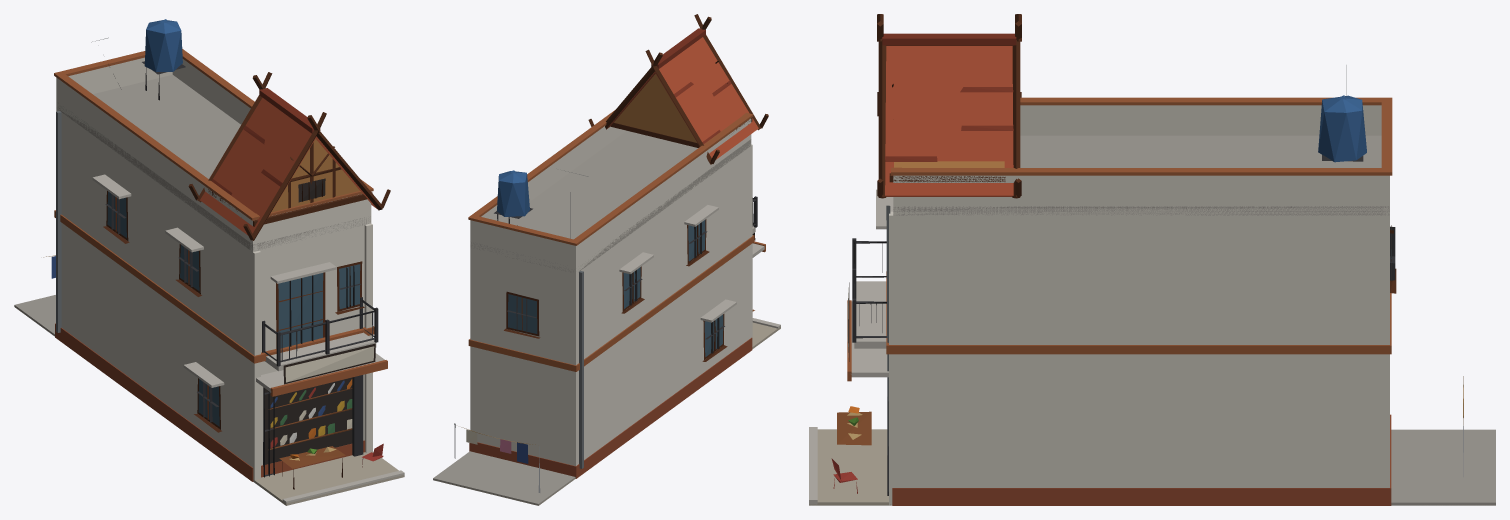
The model's file is bay1_left.glb.
3 views of the same model, side by side, from view 1: azimuth 30°, elevation 25°; view 2: azimuth 150°, elevation 25°; view 3: azimuth 270°, elevation 25° (orthographic). The views are drawn at different scales.
Parts seen in each view (by area): view 1: body, windows; view 2: body, windows; view 3: body.
Part boxes in pixels (bbox=[...]): body: bbox=[14, 19, 404, 505]; windows: bbox=[107, 178, 360, 464]; body: bbox=[433, 14, 780, 505]; windows: bbox=[508, 219, 723, 356]; body: bbox=[809, 14, 1495, 505].
Size of the model in its own units: 4.98 by 11.54 by 15.9.
